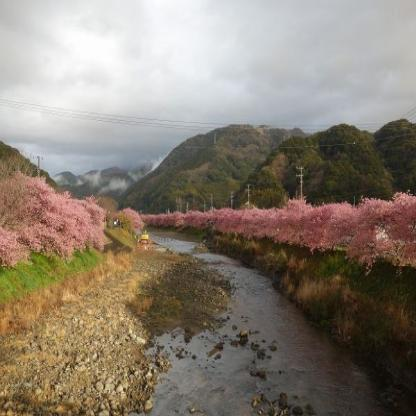KawazuSakura: (120, 184, 416, 271), (0, 168, 153, 250)
